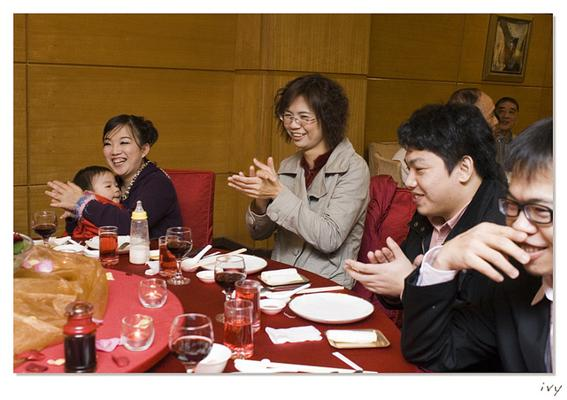person: (228, 74, 371, 292)
